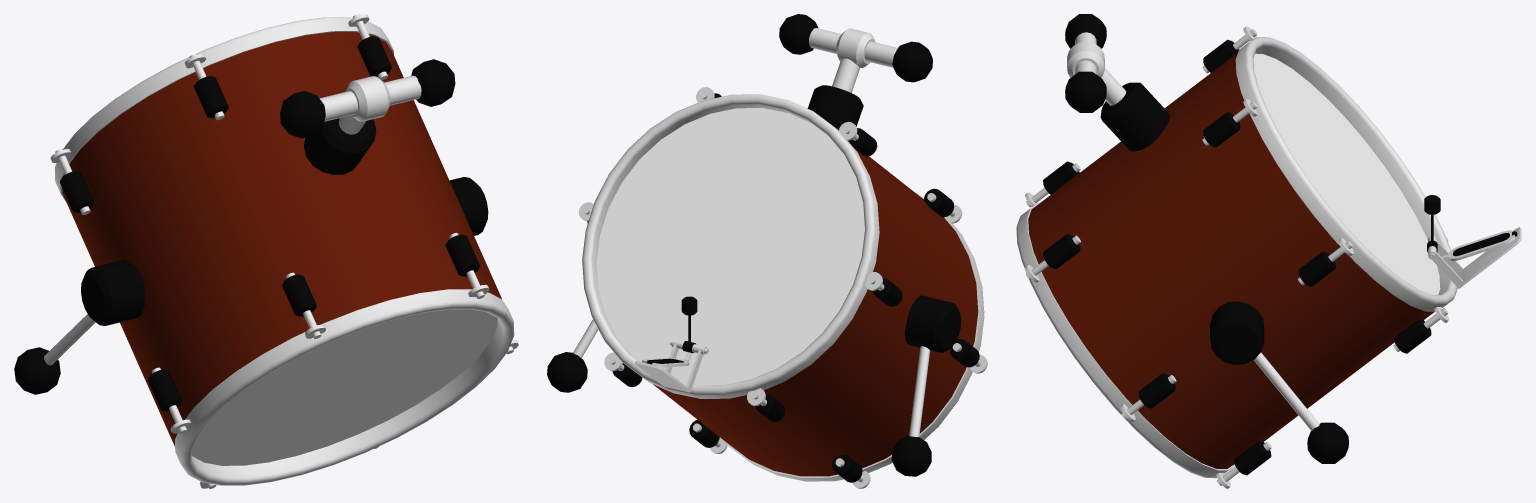
The model's file is Kick.glb.
3 views of the same model, side by side, from view 1: azimuth 30°, elevation 25°; view 2: azimuth 150°, elevation 25°; view 3: azimuth 270°, elevation 25° (orthographic). The views are drawn at different scales.
Parts seen in each view (by area): view 1: Kick; view 2: Kick; view 3: Kick.
Part boxes in pixels (x1=…): Kick: x1=14, y1=14, x2=518, y2=488; Kick: x1=547, y1=14, x2=987, y2=488; Kick: x1=1016, y1=14, x2=1521, y2=488.
Bounding box in the file's own units: 0.2787 × 0.2802 × 0.3093.
